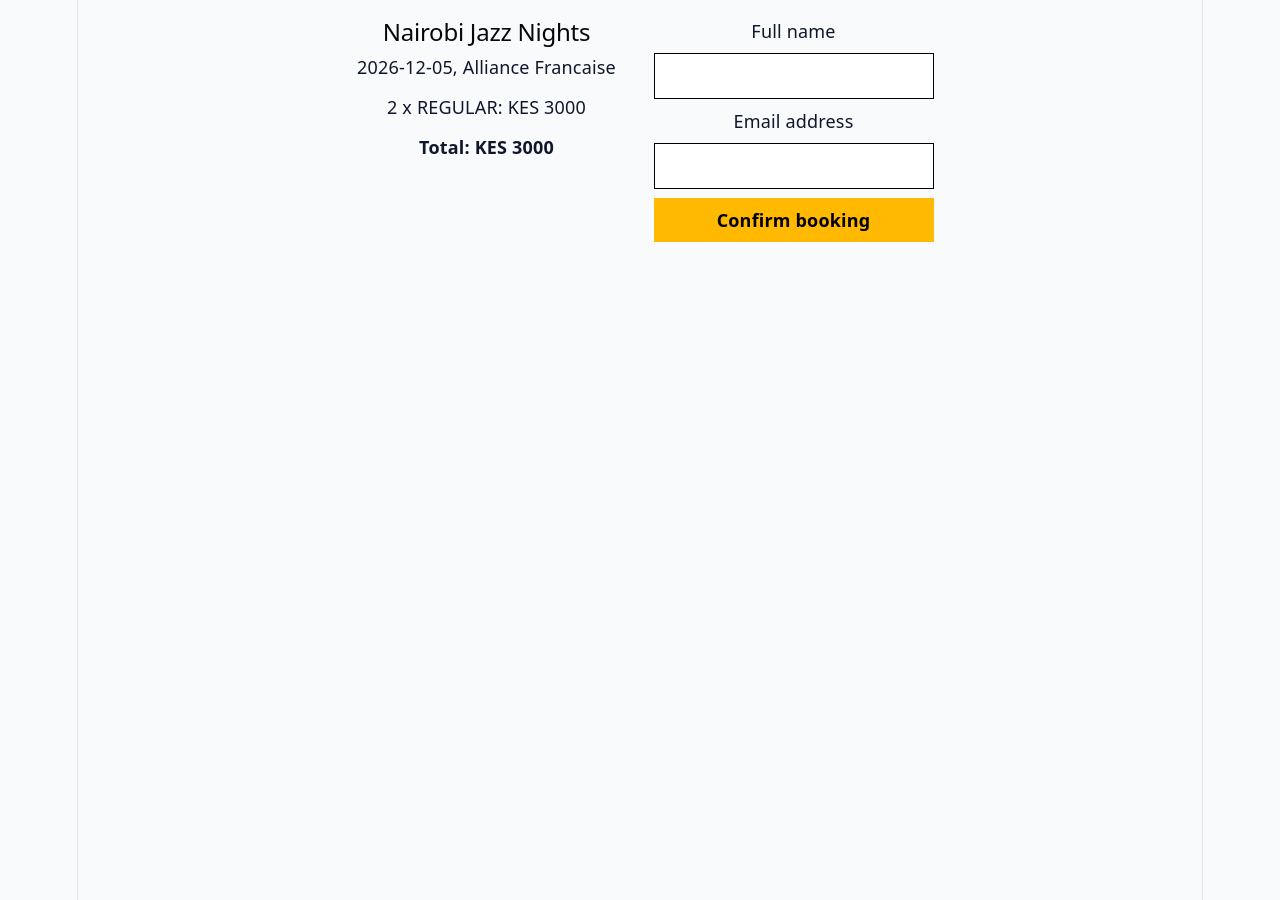
submits the booking and shows the confirmation
The width and height of the screenshot is (1280, 900).
Type "Jane Doe" into the field labelled "Full name".
click(794, 76); type("Jane Doe")  # box [654,53,934,99]
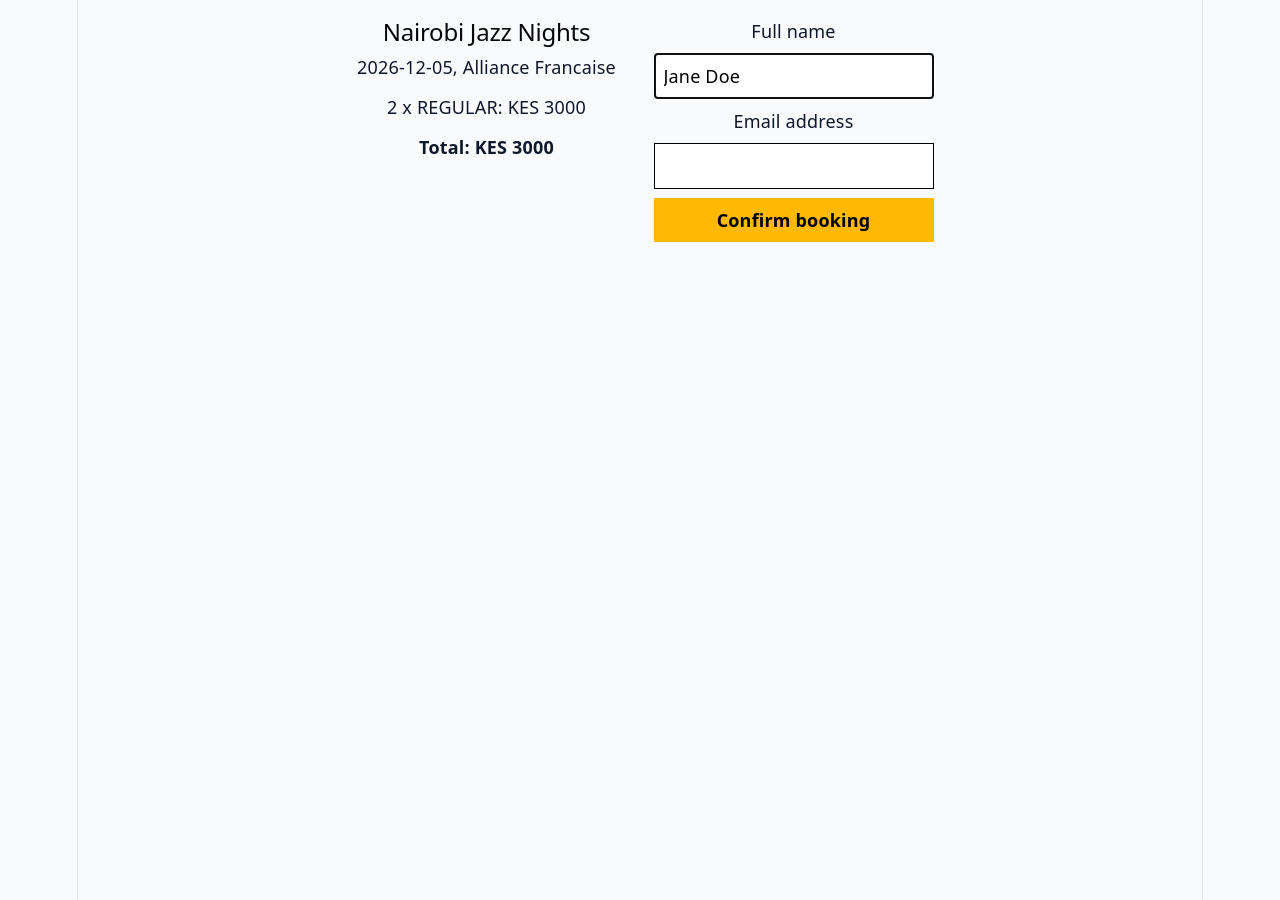
Type "jane@example.com" into the field labelled "Email address".
click(794, 166); type("jane@example.com")  # box [654,143,934,189]
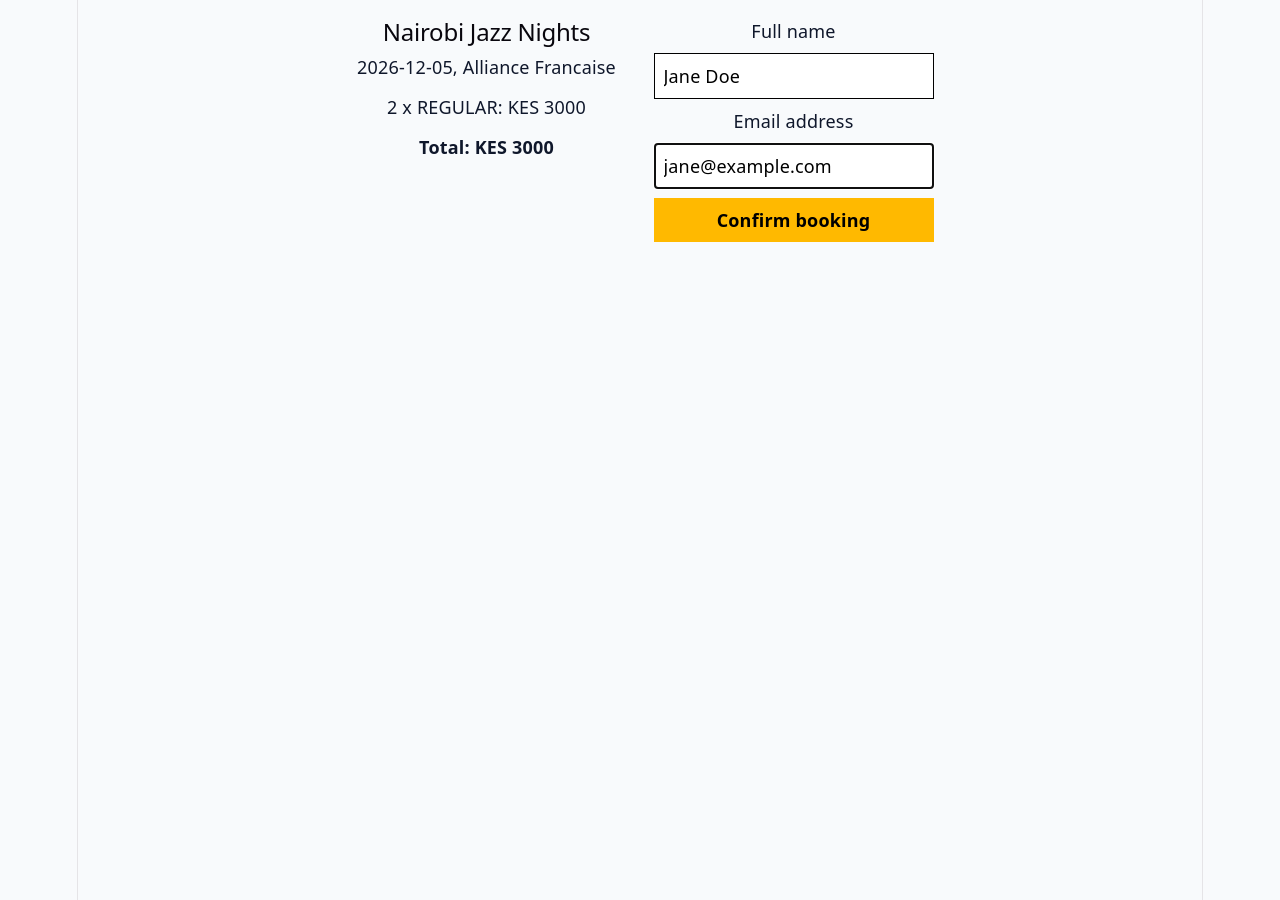
Click the button "Confirm booking".
click(794, 220)  # box [654,198,934,242]
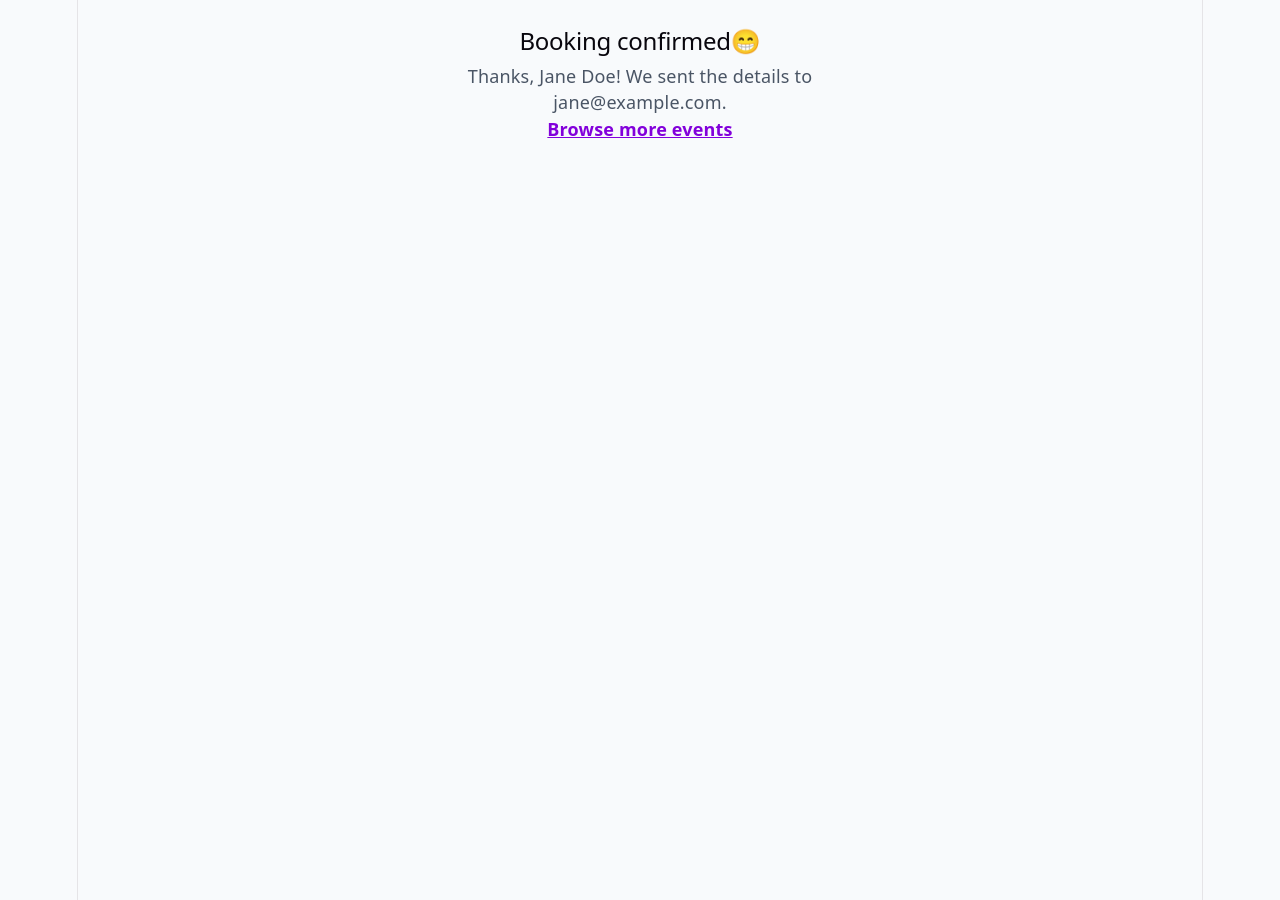
expect the heading "Booking confirmed😁" is shown: met, box [520,24,761,57]
